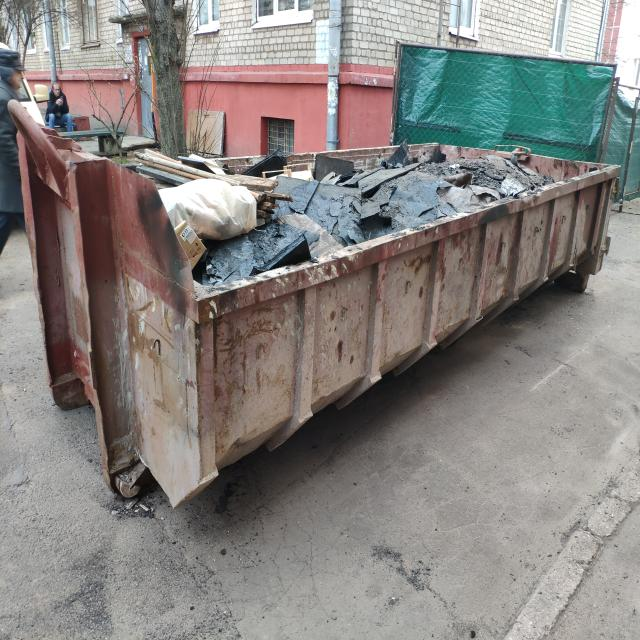entulho: (333, 170, 461, 228), (156, 178, 260, 237), (119, 146, 234, 186), (164, 224, 208, 268), (284, 152, 316, 181)
